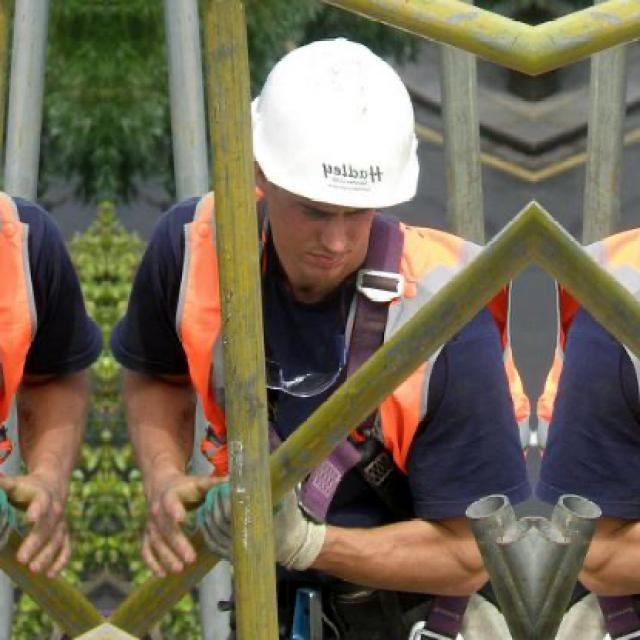2: (114, 31, 523, 637), (543, 31, 640, 638), (2, 31, 97, 638)
helmet: (230, 21, 439, 292)
